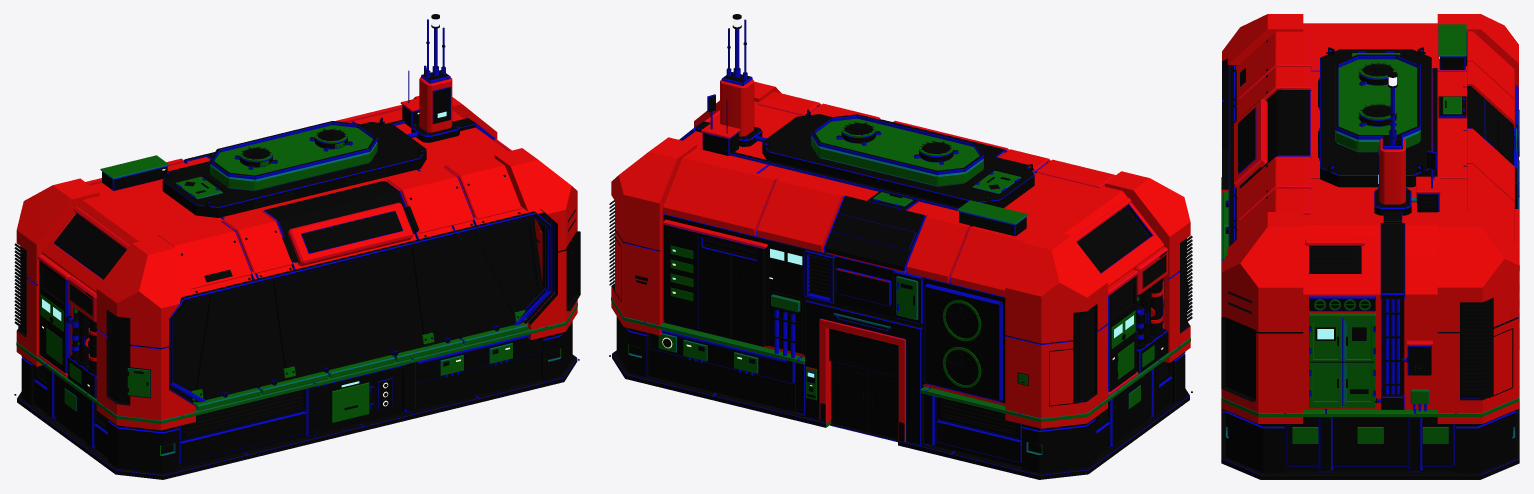
File: SM_CommandCenter.fbx
The picture shows the model from 3 angles, left to right: view 1: azimuth 30°, elevation 25°; view 2: azimuth 150°, elevation 25°; view 3: azimuth 270°, elevation 25°; orthographic projection. The views are drawn at different scales.
Visible parts, largest first — view 1: SM_CommandCenter; view 2: SM_CommandCenter; view 3: SM_CommandCenter.
Boxes of the visible parts, x1,y1,x2,y2 form: SM_CommandCenter: [14, 14, 580, 479]; SM_CommandCenter: [609, 14, 1192, 479]; SM_CommandCenter: [1221, 14, 1519, 479].
Size of what is drawn, in the model's own units: 16 by 10.69 by 8.
